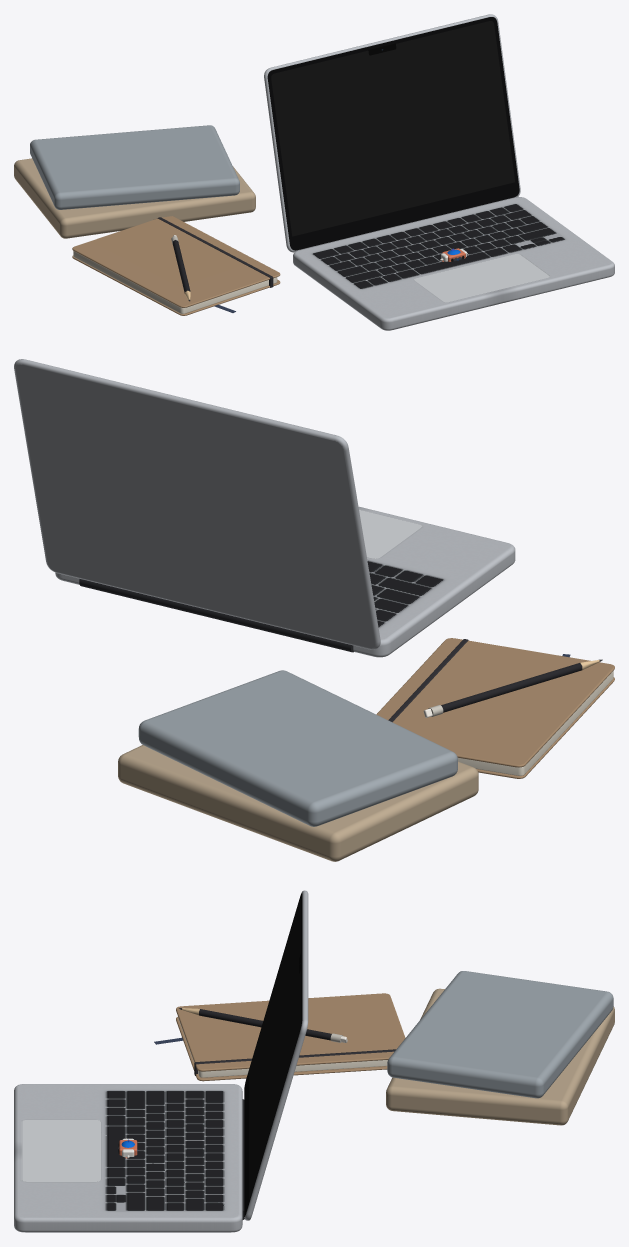
The model's file is workdesk.glb.
3 views of the same model, one above another, from view 1: azimuth 30°, elevation 25°; view 2: azimuth 150°, elevation 25°; view 3: azimuth 270°, elevation 25° (orthographic). The views are drawn at different scales.
Visible parts, largest first — view 1: mac-screen, base, surface-20, surface-11, keys, surface-19, surface-5, surface-2, surface-4, surface-10, surface-9, surface-12; view 2: surface-4, surface-20, surface-11, surface-19, base, surface-3, keys, surface-2, surface-10, surface-14; view 3: base, surface-20, keys, surface-11, surface-19, mac-screen, surface-2, surface-4, surface-5, surface-10, surface-9, surface-14 (+1 smaller).
Part boxes in pixels (<box>): mac-screen: <box>271,21,514,236</box>; base: <box>293,197,614,330</box>; surface-20: <box>30,125,239,209</box>; surface-11: <box>72,216,280,307</box>; keys: <box>313,204,563,288</box>; surface-19: <box>14,158,255,238</box>; surface-5: <box>267,17,519,250</box>; surface-2: <box>414,254,549,302</box>; surface-4: <box>264,14,520,252</box>; surface-10: <box>73,251,277,313</box>; surface-9: <box>72,255,280,315</box>; surface-12: <box>157,217,273,287</box>; surface-4: <box>14,359,380,649</box>; surface-20: <box>138,670,457,826</box>; surface-11: <box>376,638,614,767</box>; surface-19: <box>118,745,478,861</box>; base: <box>55,506,515,657</box>; surface-3: <box>79,579,353,652</box>; keys: <box>367,561,441,626</box>; surface-2: <box>359,509,421,558</box>; surface-10: <box>458,671,613,775</box>; surface-14: <box>441,663,582,712</box>; base: <box>14,1084,242,1232</box>; surface-20: <box>387,971,613,1098</box>; keys: <box>107,1091,222,1210</box>; surface-11: <box>176,993,405,1071</box>; surface-19: <box>386,988,614,1125</box>; mac-screen: <box>249,898,300,1201</box>; surface-2: <box>22,1120,100,1181</box>; surface-4: <box>244,890,308,1220</box>; surface-5: <box>244,893,302,1216</box>; surface-10: <box>178,1017,387,1077</box>; surface-9: <box>176,1017,387,1081</box>; surface-14: <box>199,1009,331,1040</box>.
Bounding box in the file's own units: 52.44 × 22.46 × 58.12.
Materials: 28 (1 with a texture image).
